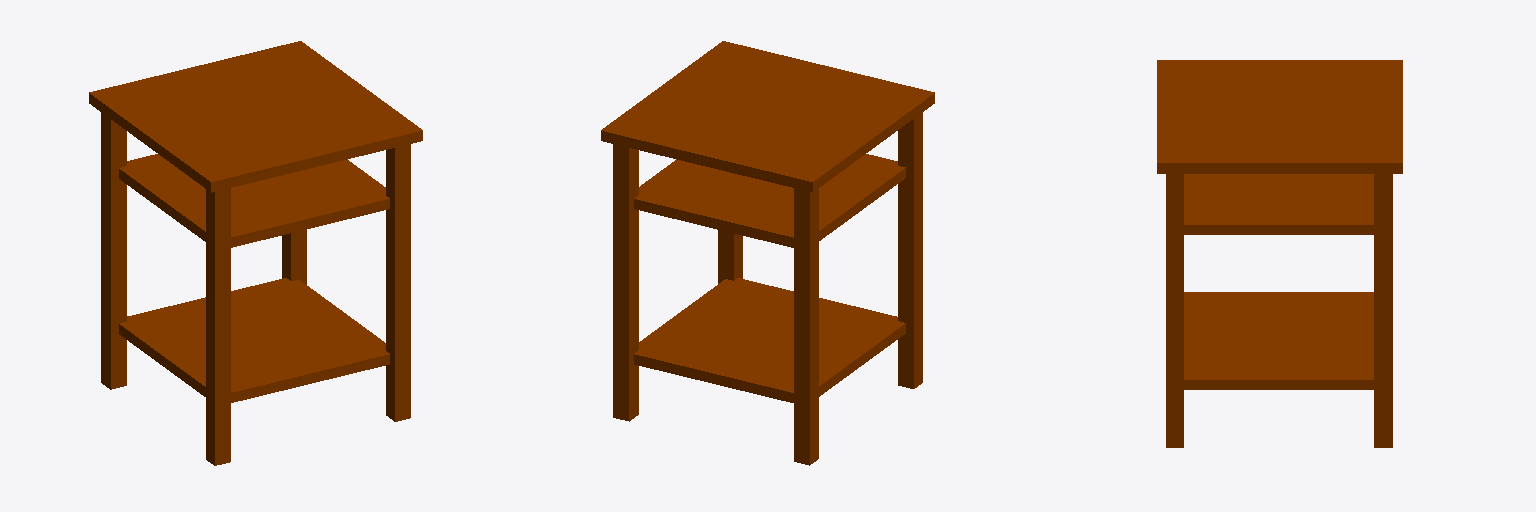
Rendered from bedsidetable.obj.
3 renders of one model, left to right at view 1: azimuth 30°, elevation 25°; view 2: azimuth 150°, elevation 25°; view 3: azimuth 270°, elevation 25°, orthographic.
Parts seen in each view (by area): view 1: Assise_1, Assise_1_6, Assise_2_7, Pied_1_3, Pied_2_4, Pied_2, Pied_3_5; view 2: Assise_1, Assise_1_6, Assise_2_7, Pied_3_5, Pied_2, Pied_1_3, Pied_2_4; view 3: Assise_1, Assise_1_6, Assise_2_7, Pied_3_5, Pied_2_4.
Boxes of the visible parts, x1=… form: Assise_1: x1=89, y1=41, x2=422, y2=192; Assise_1_6: x1=119, y1=278, x2=389, y2=402; Assise_2_7: x1=119, y1=154, x2=389, y2=247; Pied_1_3: x1=206, y1=188, x2=230, y2=465; Pied_2_4: x1=386, y1=144, x2=410, y2=421; Pied_2: x1=101, y1=112, x2=126, y2=389; Pied_3_5: x1=282, y1=230, x2=306, y2=284; Assise_1: x1=601, y1=41, x2=934, y2=192; Assise_1_6: x1=634, y1=278, x2=905, y2=402; Assise_2_7: x1=634, y1=154, x2=905, y2=247; Pied_3_5: x1=613, y1=144, x2=638, y2=421; Pied_2: x1=794, y1=188, x2=818, y2=465; Pied_1_3: x1=898, y1=112, x2=922, y2=388; Pied_2_4: x1=718, y1=230, x2=742, y2=283; Assise_1: x1=1157, y1=60, x2=1402, y2=173; Assise_1_6: x1=1184, y1=292, x2=1373, y2=389; Assise_2_7: x1=1184, y1=174, x2=1373, y2=234; Pied_3_5: x1=1374, y1=174, x2=1392, y2=447; Pied_2_4: x1=1166, y1=174, x2=1183, y2=447.
Bounding box in the file's own units: 38.1 × 49.53 × 38.1.